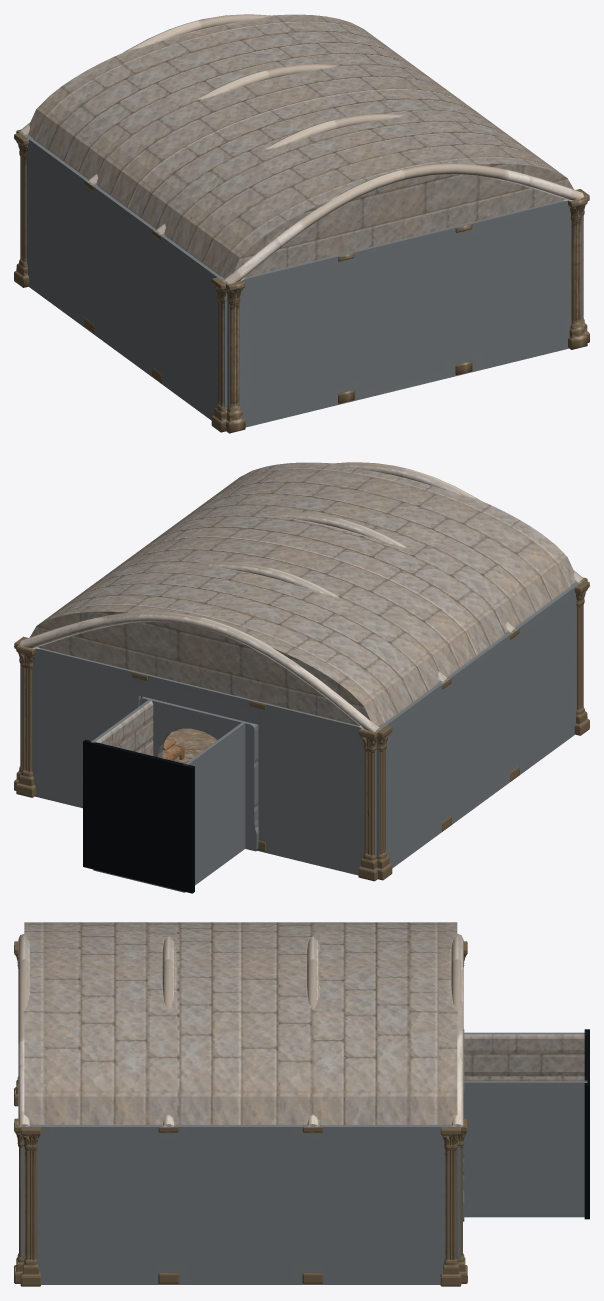
File: room.glb
The picture shows the model from 3 angles, top to bottom: view 1: azimuth 30°, elevation 25°; view 2: azimuth 150°, elevation 25°; view 3: azimuth 270°, elevation 25°; orthographic projection. The views are drawn at different scales.
Visible parts, largest first — view 1: WIZARDS-QUARTERS; view 2: WIZARDS-QUARTERS; view 3: WIZARDS-QUARTERS.
Part boxes in pixels (x1,y1,x2,y2): WIZARDS-QUARTERS: (14, 14, 589, 433); WIZARDS-QUARTERS: (14, 462, 589, 893); WIZARDS-QUARTERS: (14, 922, 589, 1286).
Bounding box in the file's own units: 10.48 × 5.95 × 13.3.
Materials: 1 (1 with a texture image).
